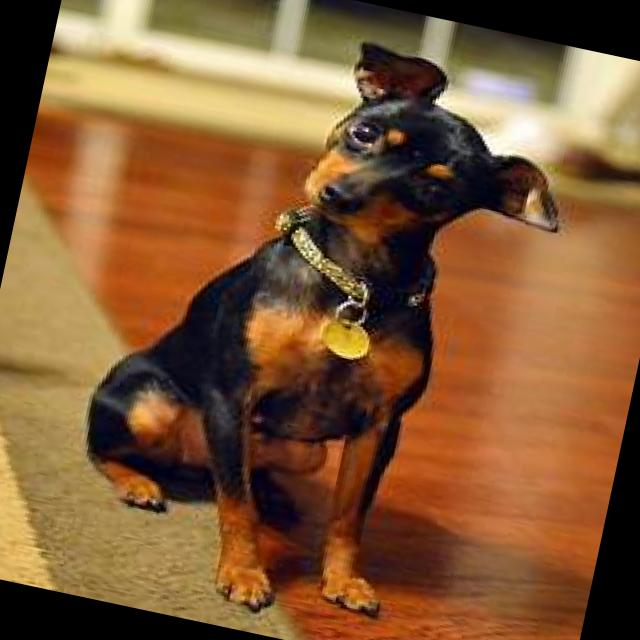dog: (20, 0, 551, 640)
